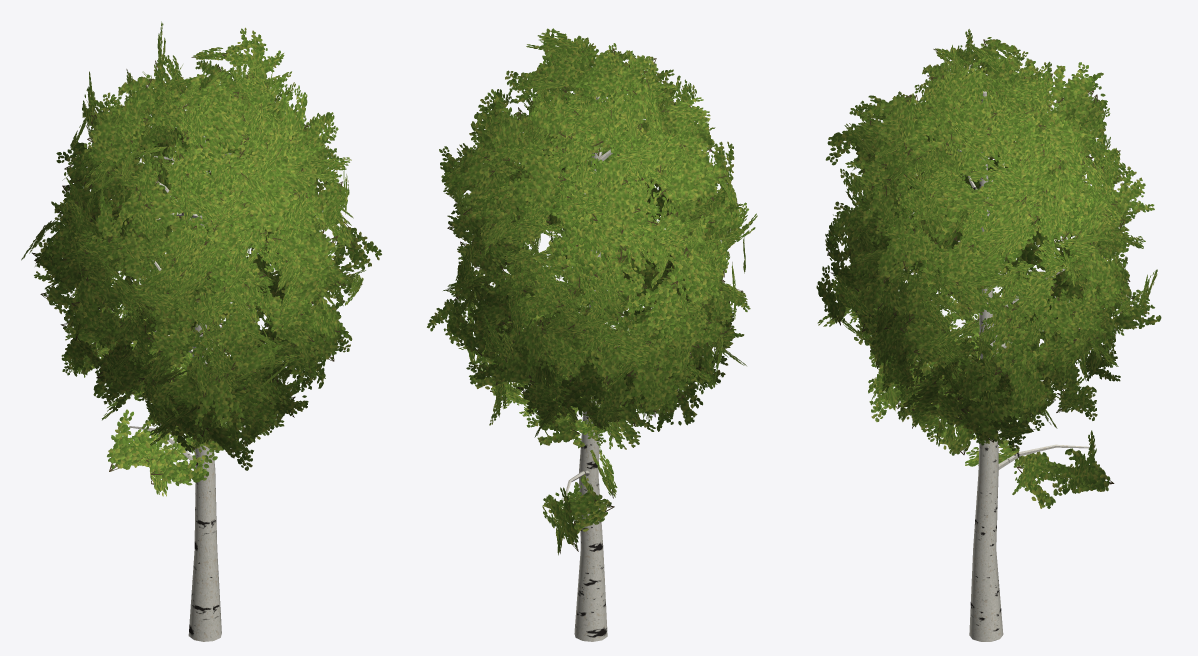
The model's file is tree_birch.glb.
The picture shows the model from 3 angles, left to right: view 1: azimuth 30°, elevation 25°; view 2: azimuth 150°, elevation 25°; view 3: azimuth 270°, elevation 25°; orthographic projection.
Parts seen in each view (by area): view 1: tree_birch; view 2: tree_birch; view 3: tree_birch.
Boxes of the visible parts, x1=… form: tree_birch: x1=21, y1=21, x2=381, y2=641; tree_birch: x1=427, y1=28, x2=757, y2=641; tree_birch: x1=816, y1=29, x2=1161, y2=641.
Bounding box in the file's own units: 4.38 × 7.94 × 4.48.
2 materials, 2 textured.
